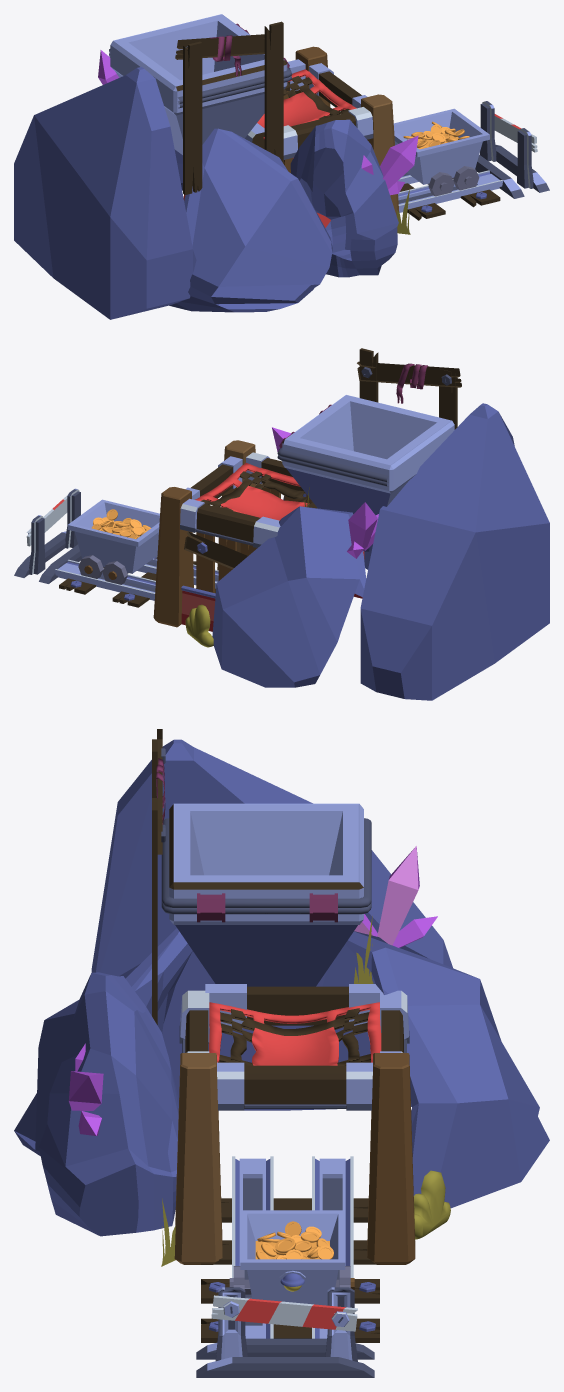
File: zolotodrobilka.fbx
3 views of the same model, one above another, from view 1: azimuth 30°, elevation 25°; view 2: azimuth 150°, elevation 25°; view 3: azimuth 270°, elevation 25° (orthographic). The views are drawn at different scales.
Parts seen in each view (by area): view 1: Куб; view 2: Куб; view 3: Куб.
Boxes of the visible parts, left/top/right/bottom form: Куб: left=14, top=14, right=549, bottom=319; Куб: left=14, top=348, right=549, bottom=700; Куб: left=14, top=729, right=549, bottom=1377.
Size of the model in its own units: 3294 by 1729 by 2228.
